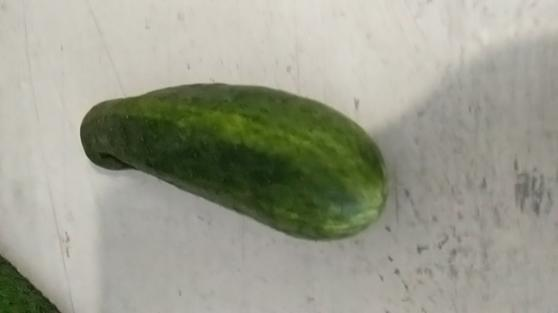cucumber: (78, 83, 390, 241)
